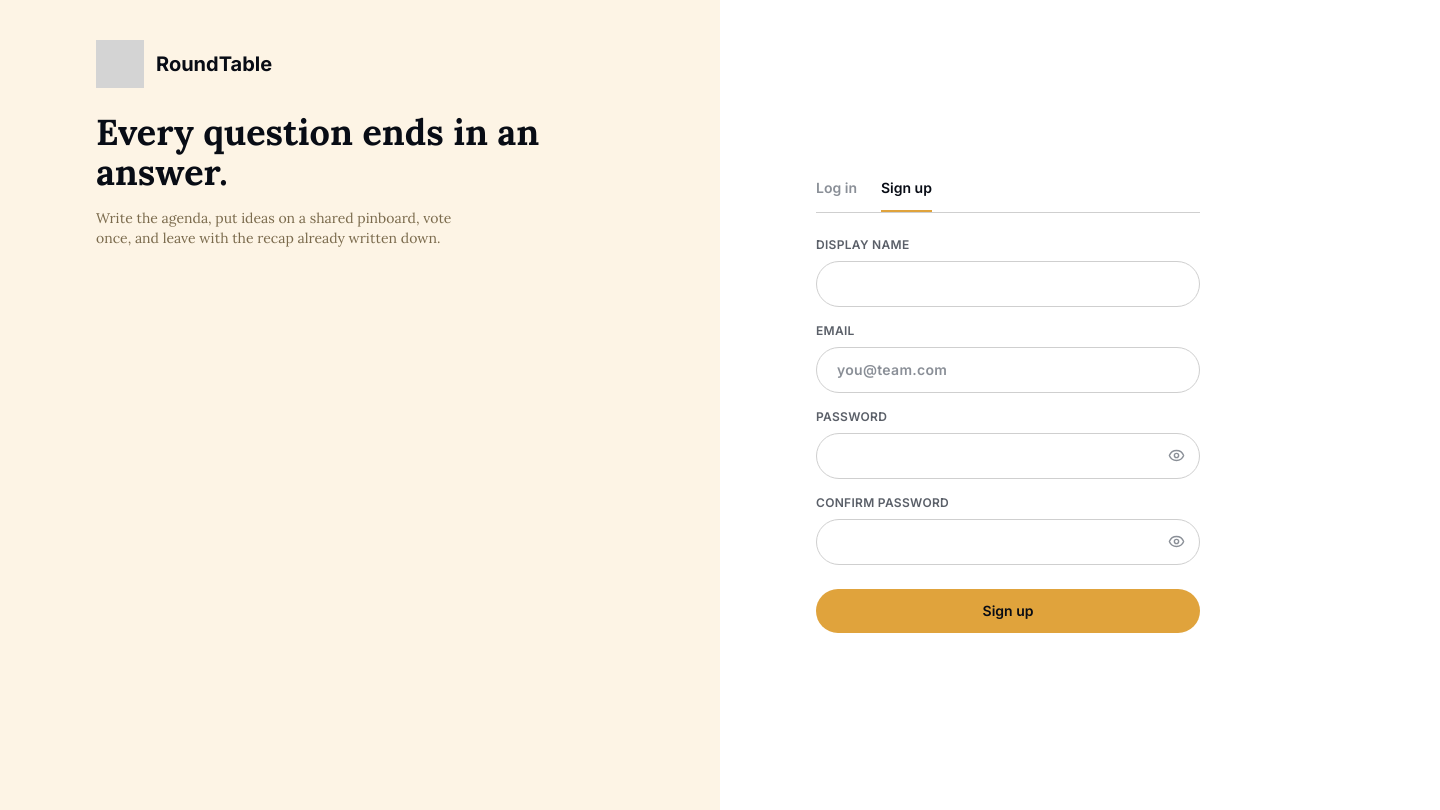
Test: SignupPage › shows a validation error without hitting the network when passwords do not match
In the field labelled "Display name": point(1008, 284) [816, 260, 1200, 306], type "Alice"
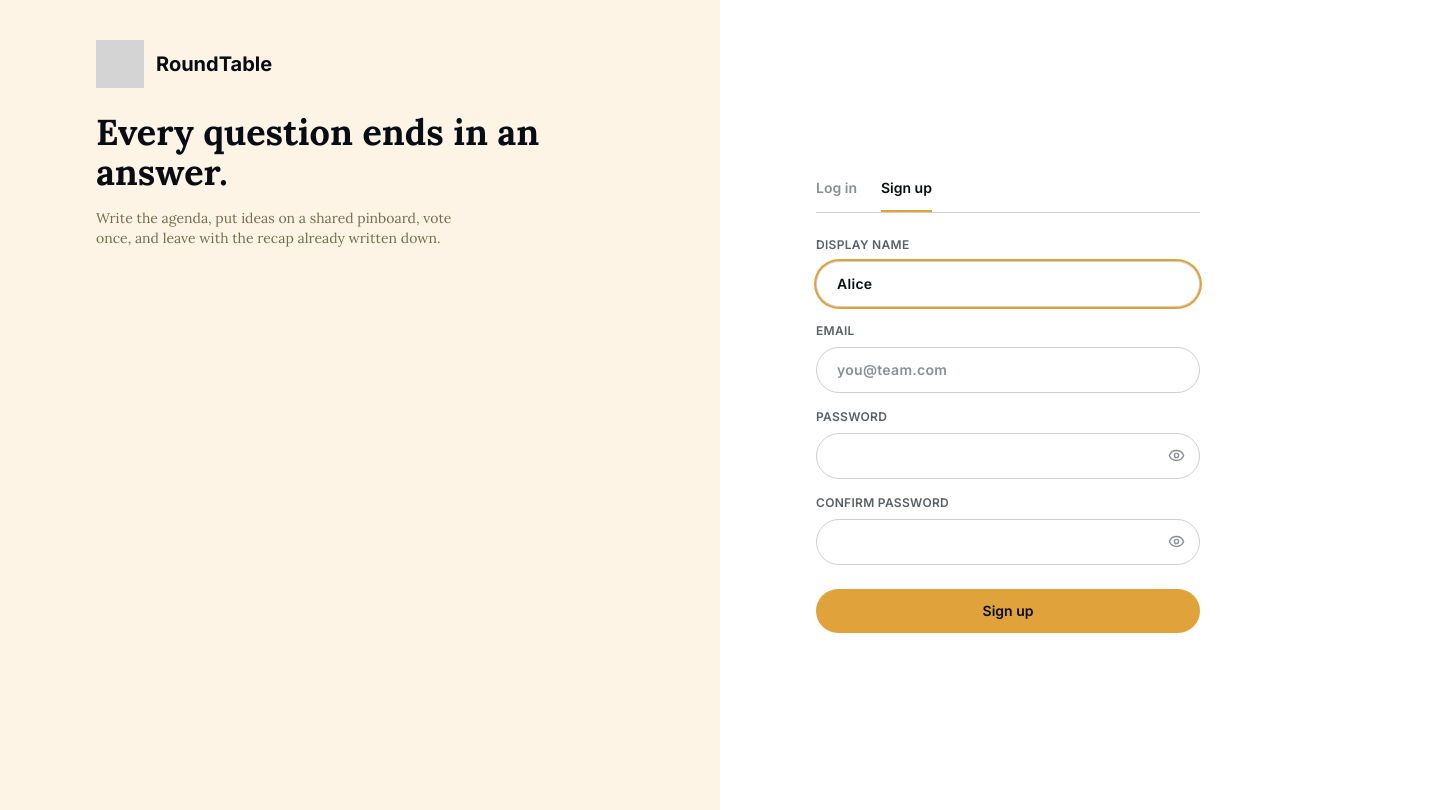
In the field labelled "Email": point(1008, 370) [816, 346, 1200, 392], type "alice@example.com"
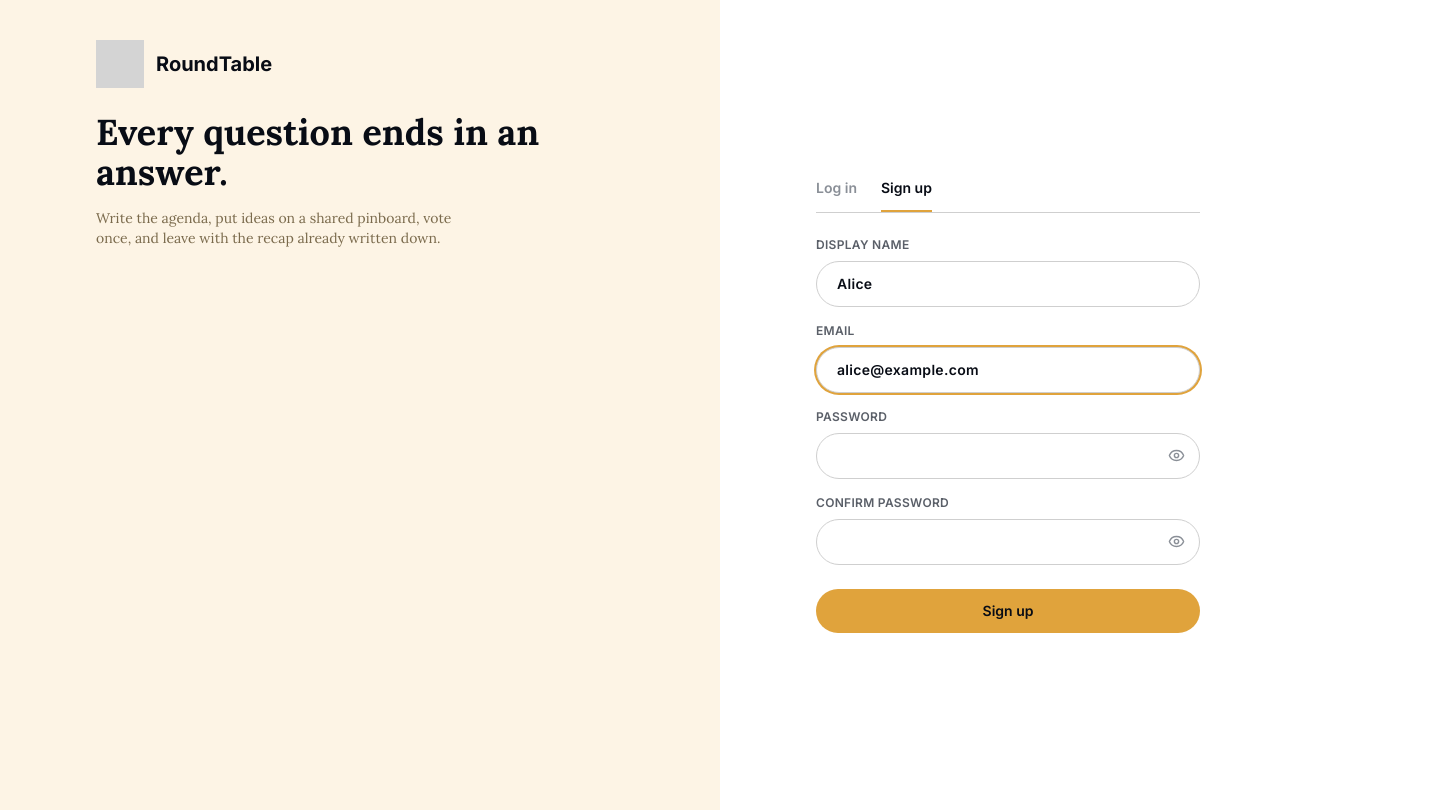
In the password field labelled "Password": point(1008, 456) [816, 432, 1200, 478], type "longenough"
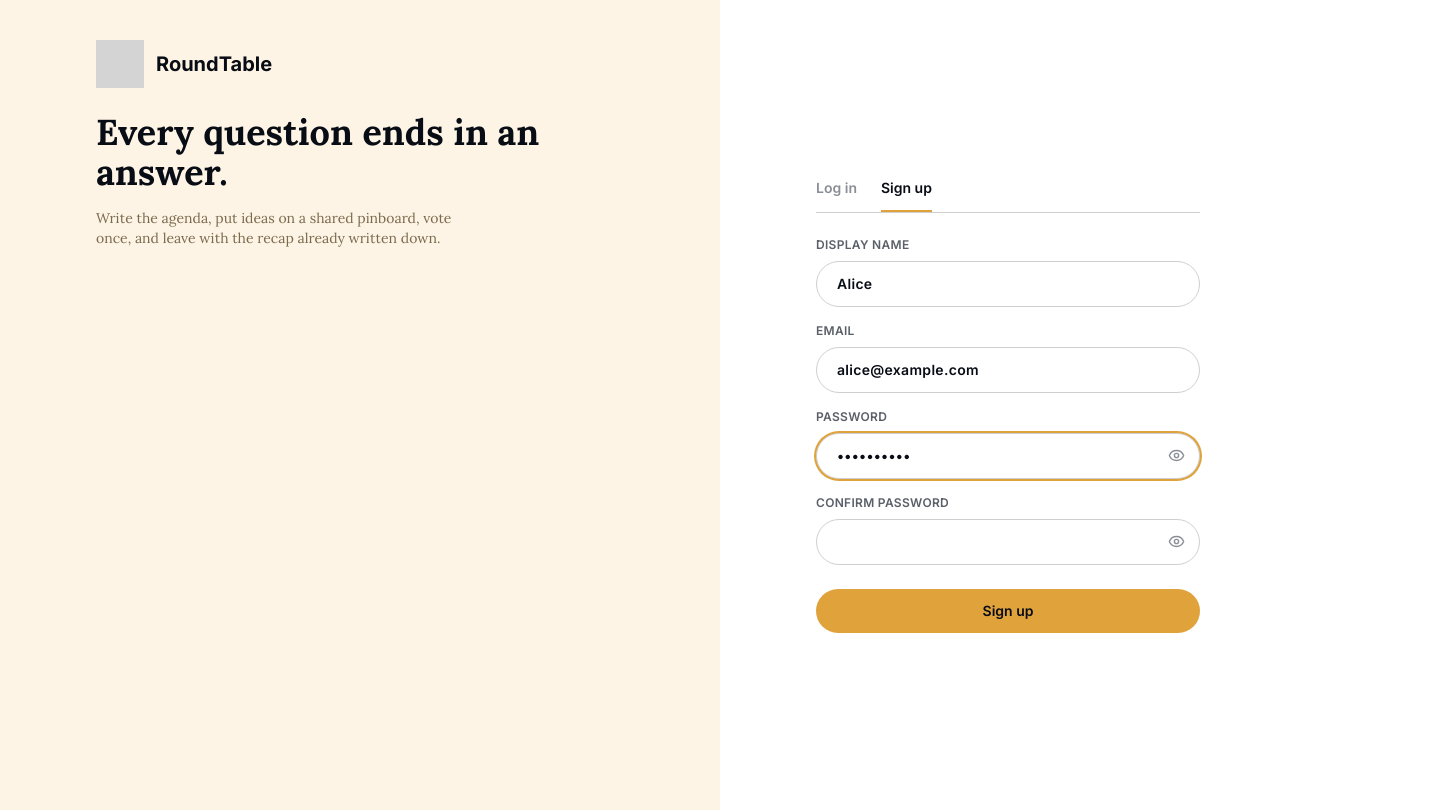
In the password field labelled "Confirm password": point(1008, 542) [816, 518, 1200, 564], type "somethingelse"
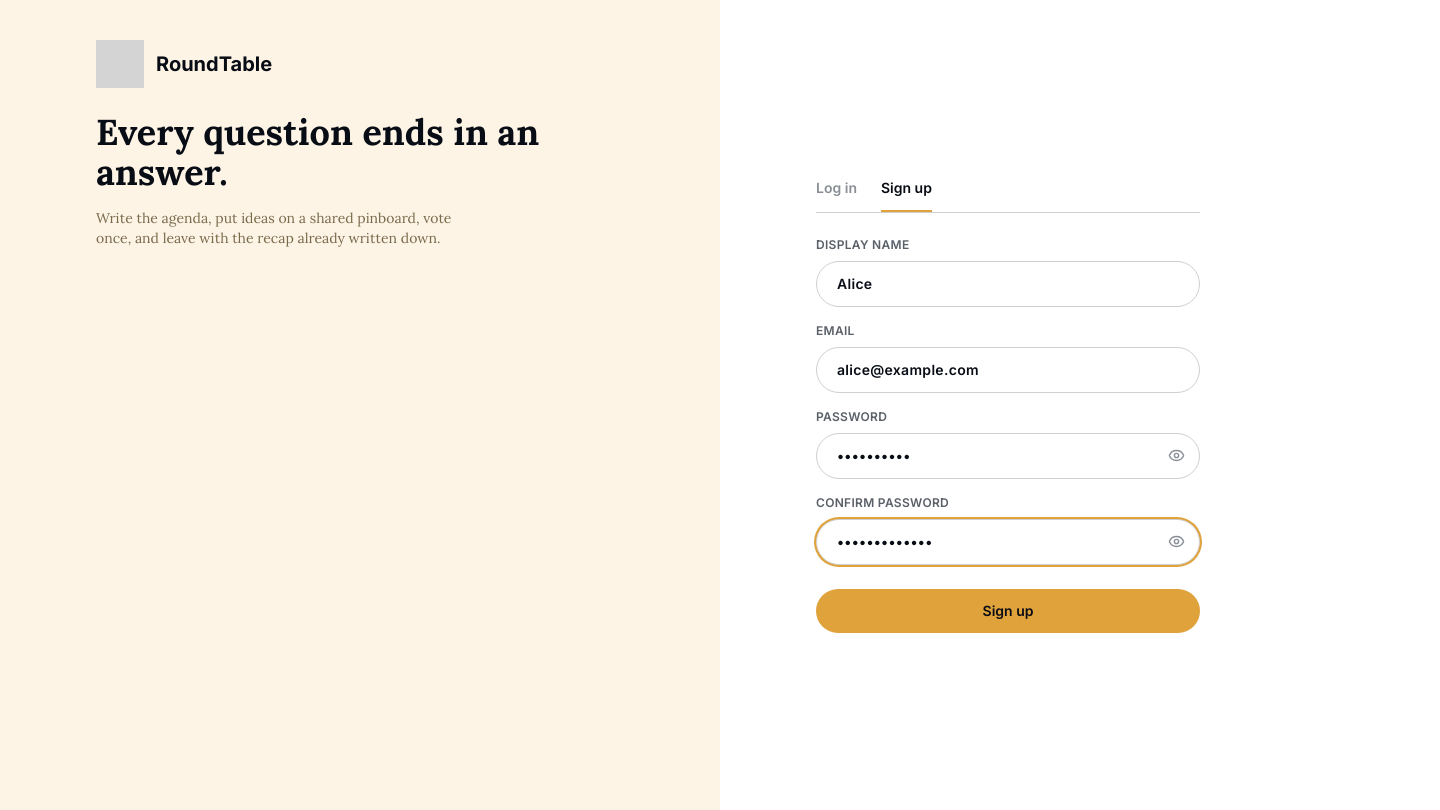
Click the button "Sign up": point(1008, 610) [816, 588, 1200, 632]
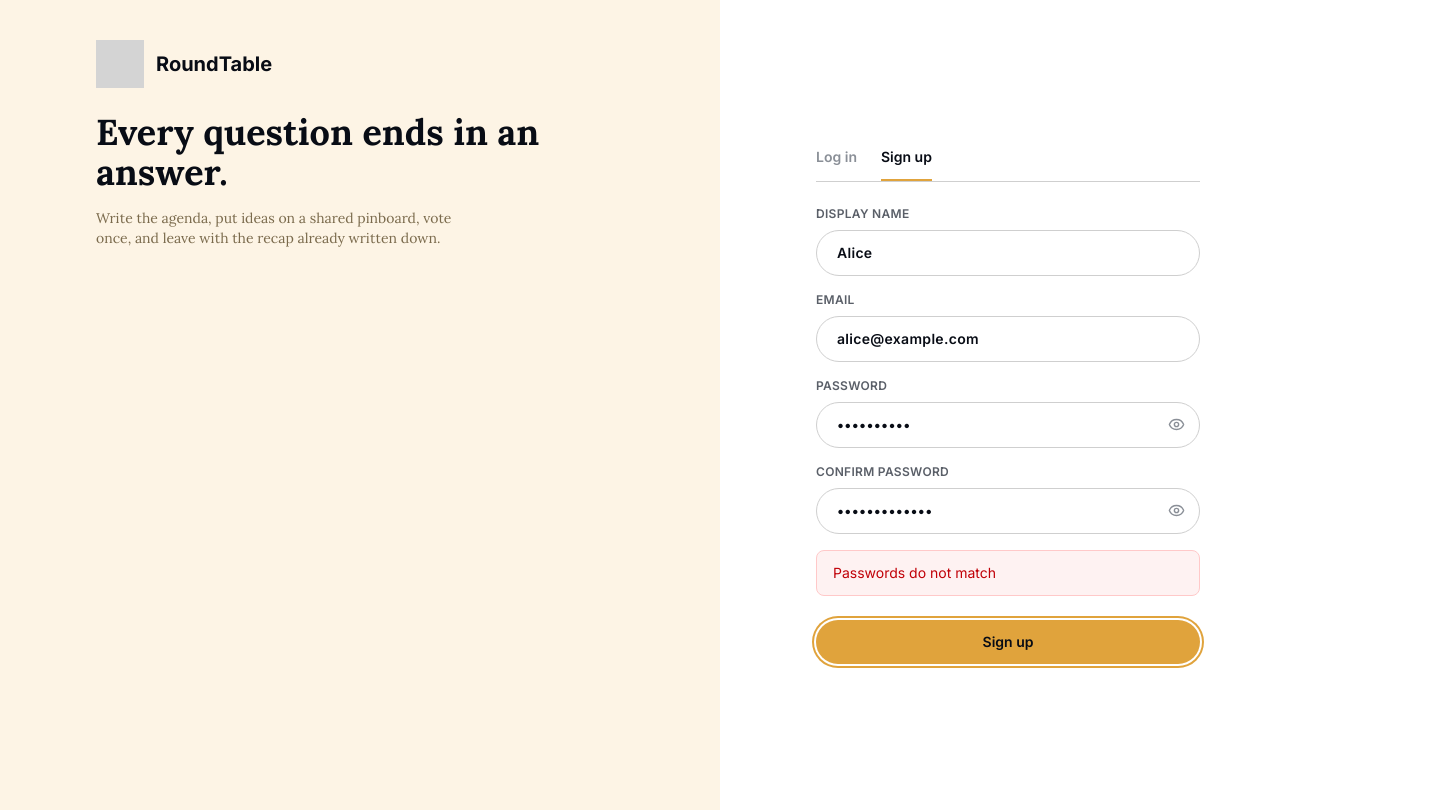
expect the message shows "do not match": met, box [833, 564, 996, 580]
